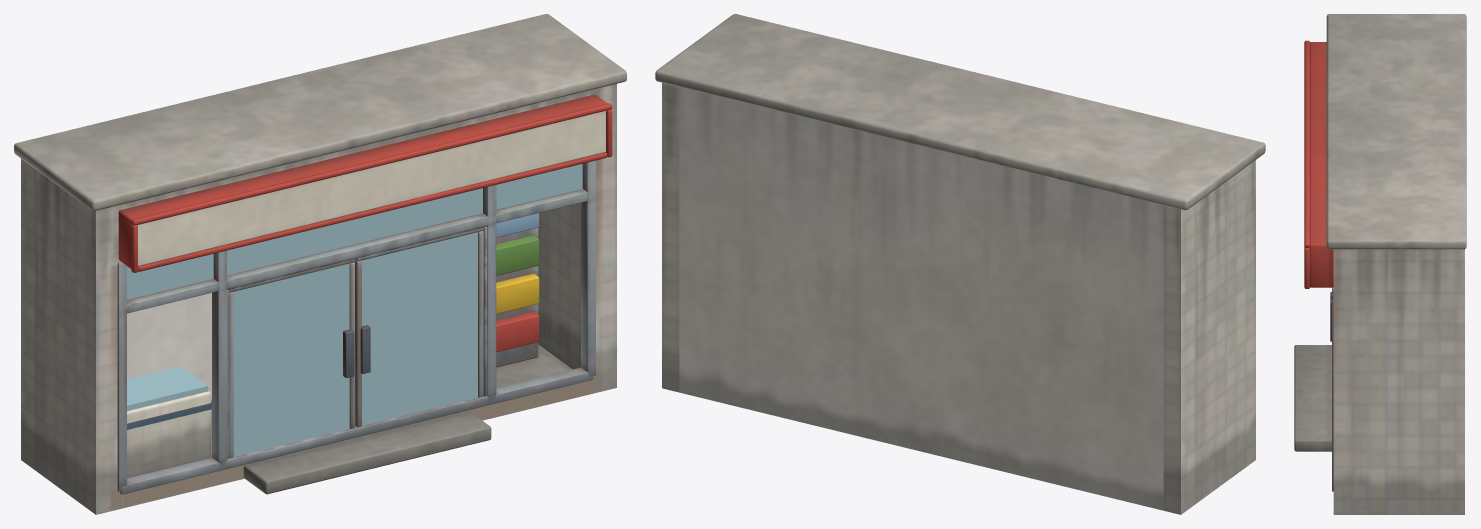
Rendered from supermarket.glb.
3 renders of one model, left to right at view 1: azimuth 30°, elevation 25°; view 2: azimuth 150°, elevation 25°; view 3: azimuth 270°, elevation 25°, orthographic. The views are drawn at different scales.
Parts seen in each view (by area): view 1: supermarket; view 2: supermarket; view 3: supermarket.
Part boxes in pixels (x1=…): supermarket: x1=14, y1=14, x2=626, y2=514; supermarket: x1=655, y1=14, x2=1265, y2=514; supermarket: x1=1294, y1=14, x2=1466, y2=514.
Bounding box in the file's own units: 6.16 × 3.5 × 1.97.
Materials: 12 (9 with a texture image).
